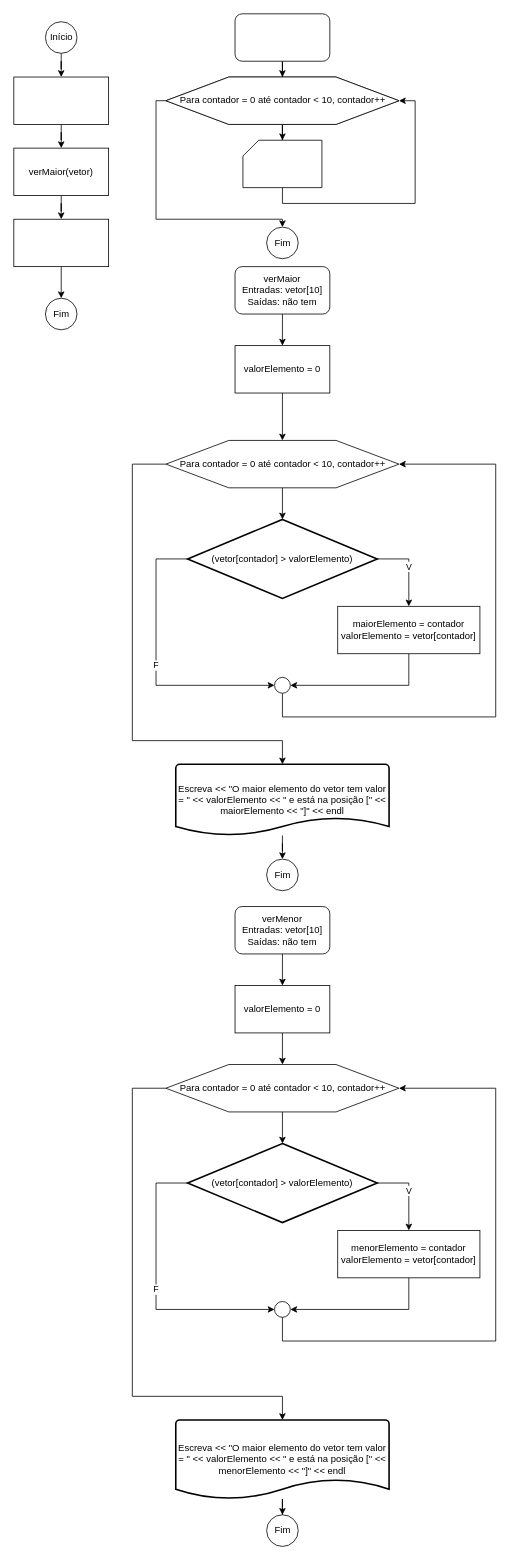
The diagram is 516 pixels wide and 1560 high, and some of its shapes have lost their labels. The shapes that lost their labels are listed below. From the top down, each one's centre as x and y in pixels, then its label:
the point at 282,37: lerVetor Entradas: vetor[10] Saídas: não tem
the point at 61,100: lerVetor(vetor)
the point at 282,163: vetor[contador]
the point at 61,242: verMenor(vetor)
